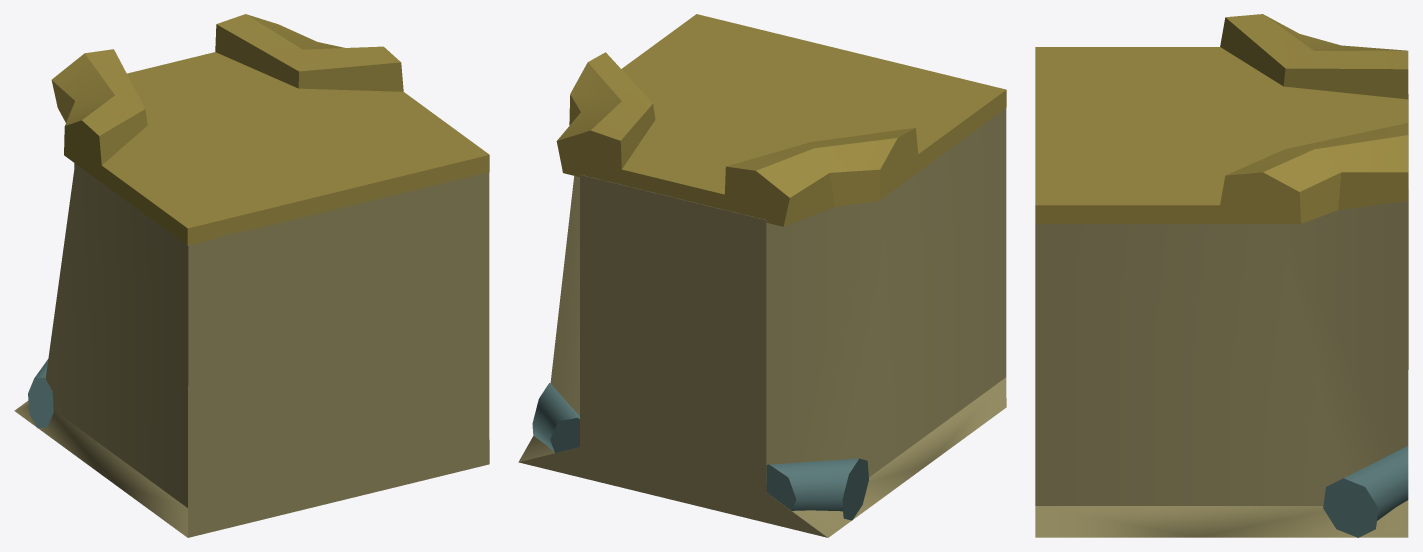
Rendered from Int_13_Wall_Cross_connector.fbx.
3 views of the same model, side by side, from view 1: azimuth 30°, elevation 25°; view 2: azimuth 150°, elevation 25°; view 3: azimuth 270°, elevation 25° (orthographic). The views are drawn at different scales.
Parts seen in each view (by area): view 1: Int_13_Wall_Cross_connector1; view 2: Int_13_Wall_Cross_connector1; view 3: Int_13_Wall_Cross_connector1.
Boxes of the visible parts, x1,y1,x2,y2 form: Int_13_Wall_Cross_connector1: (14,14,489,537); Int_13_Wall_Cross_connector1: (518,14,1006,537); Int_13_Wall_Cross_connector1: (1035,14,1408,537).
Bounding box in the file's own units: 1 × 1.08 × 0.9986.
